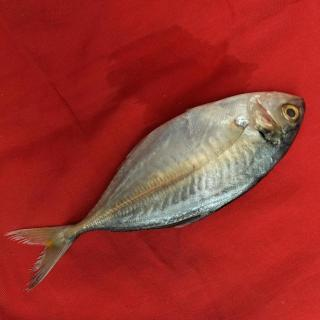Ikan: (32, 91, 309, 272)
